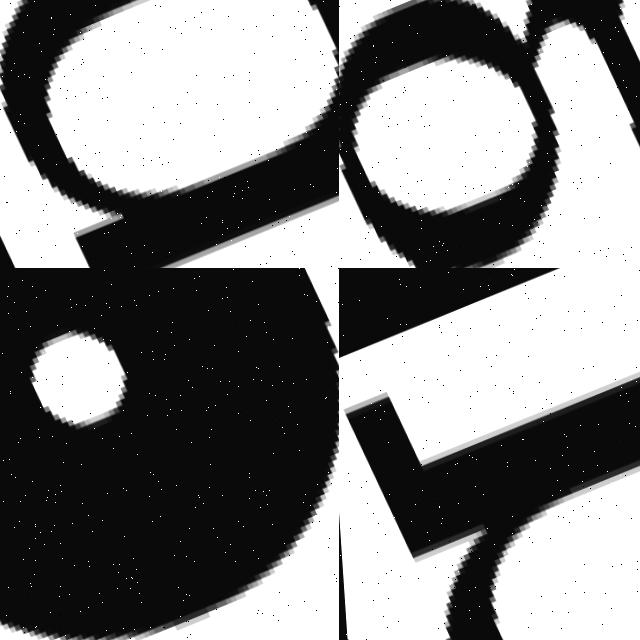G: (0, 0, 339, 268), (339, 0, 640, 268)
N: (339, 268, 640, 640)
O: (0, 268, 339, 640)
